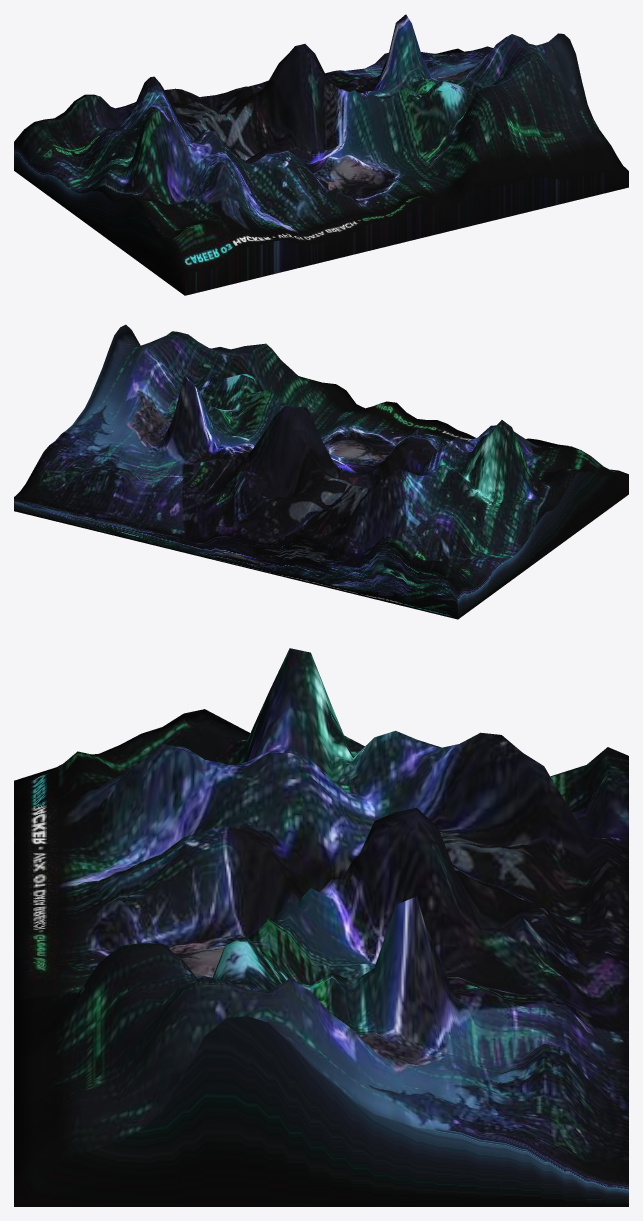
File: CAREER_03_VFX_01_Data_Breach.glb
The picture shows the model from 3 angles, top to bottom: view 1: azimuth 30°, elevation 25°; view 2: azimuth 150°, elevation 25°; view 3: azimuth 270°, elevation 25°; orthographic projection. The views are drawn at different scales.
Visible parts, largest first — view 1: CAREER_03_VFX_01_Data_Breach; view 2: CAREER_03_VFX_01_Data_Breach; view 3: CAREER_03_VFX_01_Data_Breach.
Part boxes in pixels (x1,y1,x2,y2): CAREER_03_VFX_01_Data_Breach: [14, 14, 628, 295]; CAREER_03_VFX_01_Data_Breach: [14, 324, 628, 619]; CAREER_03_VFX_01_Data_Breach: [14, 648, 628, 1206].
Bounding box in the file's own units: 2 × 0.51 × 1.33.
Materials: 1 (1 with a texture image).
